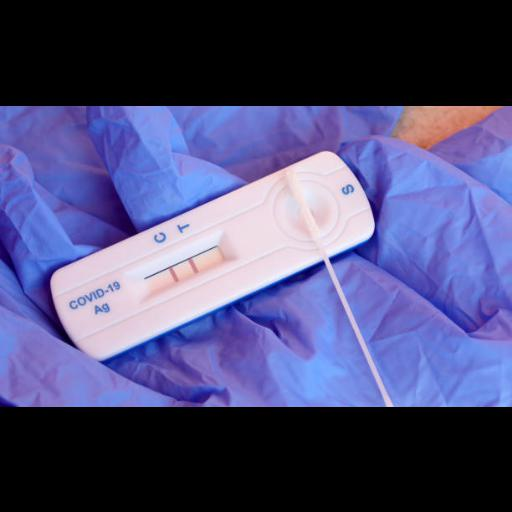Pos: (42, 145, 381, 366)
